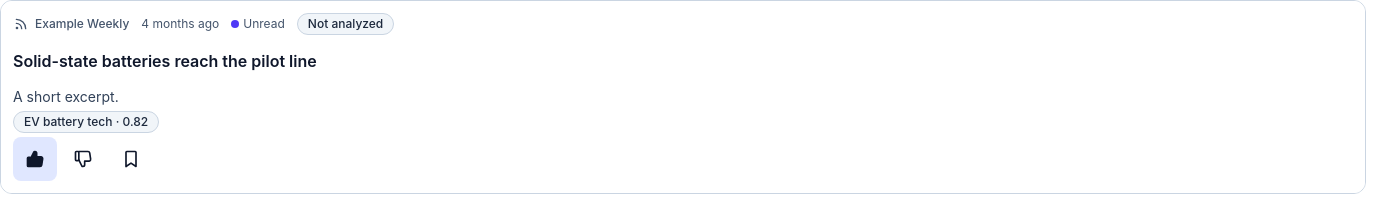
Test: the colour and the name of the action › on the right, "like" of {"rating":1} is named "Remove like"
Press the mouse on the element named "Solid-state batteries reach the pilot line": {"x": 683, "y": 97} x1=0 y1=0 x2=1366 y2=194
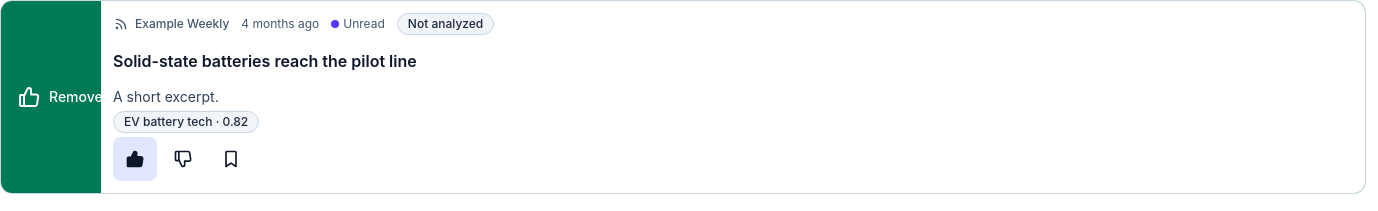
Expected: the element showing "Remove like" is shown
Expected: the text "Remove like" is shown, x1=49 y1=87 x2=129 y2=107
